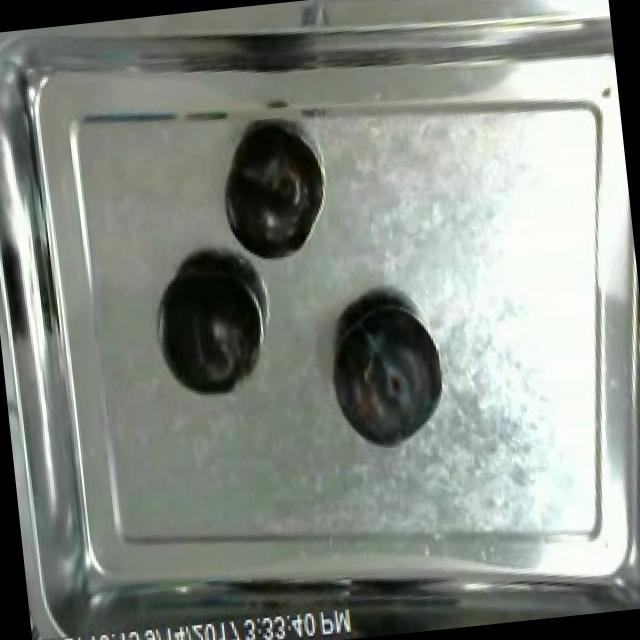Fruit: (318, 288, 454, 461), (148, 247, 268, 403), (212, 119, 330, 268)
